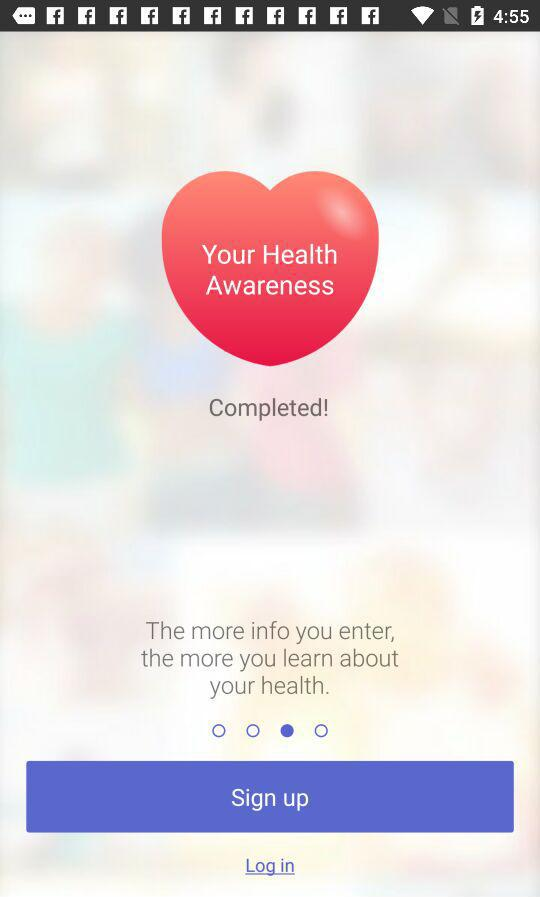Image: (162, 171, 380, 368)
PageIndicator: (212, 723, 330, 740)
Text: (140, 619, 400, 701), (209, 396, 329, 424), (244, 857, 296, 878)
TextButton: (26, 760, 515, 834)
UpperTaskBar: (1, 1, 540, 33)
